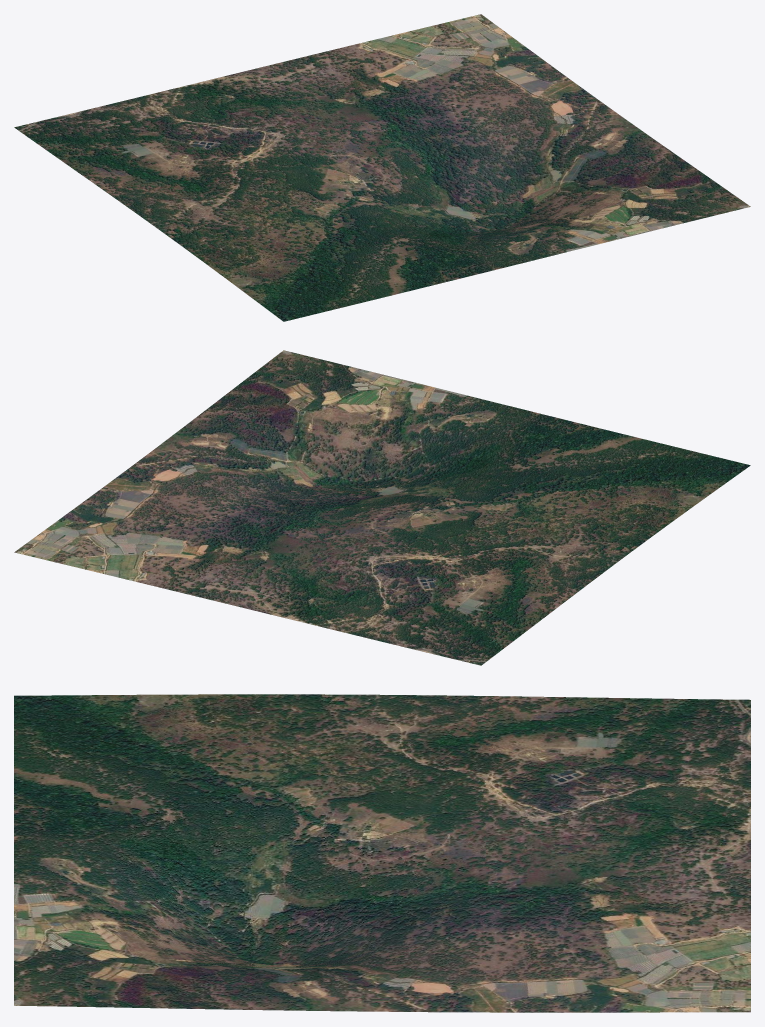
The model's file is terrain_real_T_W04_N02.glb.
3 renders of one model, top to bottom at view 1: azimuth 30°, elevation 25°; view 2: azimuth 150°, elevation 25°; view 3: azimuth 270°, elevation 25°, orthographic. The views are drawn at different scales.
Parts seen in each view (by area): view 1: Terrain_Real_DEM_T_W04_N02; view 2: Terrain_Real_DEM_T_W04_N02; view 3: Terrain_Real_DEM_T_W04_N02.
Boxes of the visible parts, <box> form: Terrain_Real_DEM_T_W04_N02: <box>14,14,750,321</box>; Terrain_Real_DEM_T_W04_N02: <box>14,350,750,665</box>; Terrain_Real_DEM_T_W04_N02: <box>14,694,750,1012</box>.
Bounding box in the file's own units: 2000 × 146 × 2000.
1 material, 1 textured.
